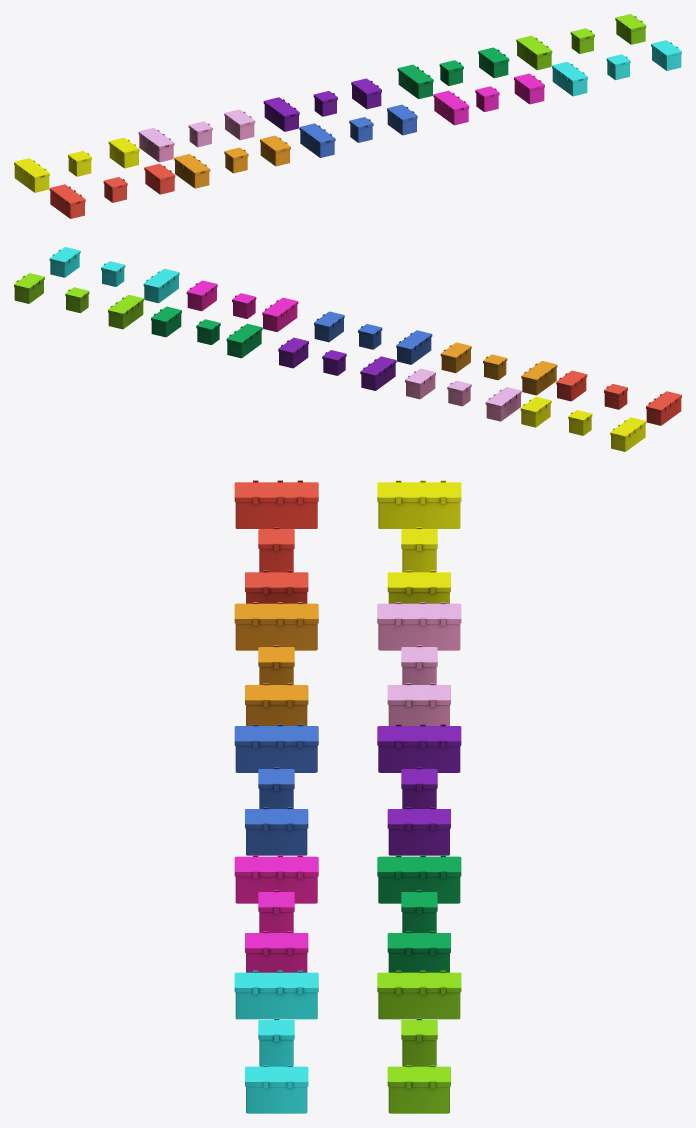
File: Containers.fbx
The picture shows the model from 3 angles, top to bottom: view 1: azimuth 30°, elevation 25°; view 2: azimuth 150°, elevation 25°; view 3: azimuth 270°, elevation 25°; orthographic projection. The views are drawn at different scales.
Parts seen in each view (by area): view 1: Container_L.004, Container_L.005, Container_L.002, Container_L.007, Container_L.008, Container_L.009, Container_L.10, Container_L.001, Container_L.003, Container_L.006, Container_M.006, Container_M.10 (+18 smaller); view 2: Container_L.009, Container_L.10, Container_L.003, Container_L.004, Container_L.005, Container_L.007, Container_L.008, Container_L.001, Container_L.002, Container_L.006, Container_M.001, Container_M.005 (+18 smaller); view 3: Container_L.10, Container_L.005, Container_L.004, Container_L.009, Container_L.003, Container_L.008, Container_L.002, Container_L.007, Container_L.001, Container_L.006, Container_M.005, Container_M.10 (+18 smaller).
Part boxes in pixels (x1=…): Container_L.004: x1=14, y1=158, x2=49, y2=192; Container_L.005: x1=552, y1=62, x2=587, y2=96; Container_L.002: x1=263, y1=97, x2=299, y2=131; Container_L.007: x1=299, y1=123, x2=335, y2=157; Container_L.008: x1=174, y1=154, x2=210, y2=188; Container_L.009: x1=49, y1=184, x2=85, y2=218; Container_L.10: x1=516, y1=35, x2=552, y2=70; Container_L.001: x1=397, y1=64, x2=433, y2=98; Container_L.003: x1=138, y1=128, x2=174, y2=162; Container_L.006: x1=433, y1=90, x2=469, y2=125; Container_M.006: x1=514, y1=73, x2=544, y2=104; Container_M.10: x1=615, y1=14, x2=646, y2=44; Container_L.009: x1=646, y1=391, x2=681, y2=425; Container_L.10: x1=108, y1=295, x2=143, y2=329; Container_L.003: x1=485, y1=387, x2=521, y2=421; Container_L.004: x1=610, y1=417, x2=646, y2=451; Container_L.005: x1=143, y1=268, x2=179, y2=303; Container_L.007: x1=396, y1=330, x2=432, y2=364; Container_L.008: x1=521, y1=361, x2=557, y2=395; Container_L.001: x1=226, y1=323, x2=262, y2=358; Container_L.002: x1=360, y1=356, x2=396, y2=390; Container_L.006: x1=262, y1=297, x2=298, y2=331; Container_M.001: x1=151, y1=306, x2=181, y2=337; Container_M.005: x1=49, y1=247, x2=80, y2=277; Container_L.10: x1=377, y1=970, x2=461, y2=1019; Container_L.005: x1=234, y1=970, x2=318, y2=1019; Container_L.004: x1=377, y1=480, x2=461, y2=528; Container_L.009: x1=234, y1=480, x2=318, y2=528; Container_L.003: x1=377, y1=602, x2=461, y2=650; Container_L.008: x1=234, y1=602, x2=318, y2=650; Container_L.002: x1=377, y1=724, x2=461, y2=772; Container_L.007: x1=234, y1=724, x2=318, y2=772; Container_L.001: x1=377, y1=855, x2=461, y2=903; Container_L.006: x1=234, y1=855, x2=318, y2=903; Container_M.005: x1=245, y1=1065, x2=308, y2=1113; Container_M.10: x1=387, y1=1065, x2=450, y2=1113.
Bounding box in the file's own units: 70.22 × 1.8 × 11.19.
